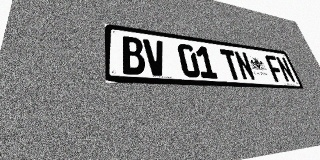0: (177, 43, 201, 78)
1: (194, 45, 218, 79)
B: (121, 36, 146, 75)
F: (264, 55, 286, 82)
N: (233, 51, 256, 81), (275, 56, 296, 83)
T: (219, 49, 243, 80)
V: (143, 39, 168, 76)
